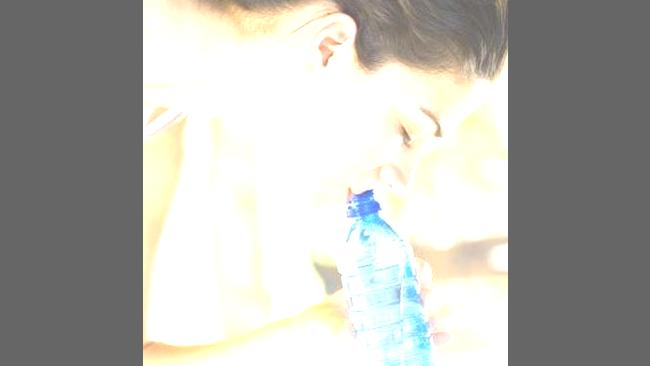bottle: (323, 184, 452, 366)
